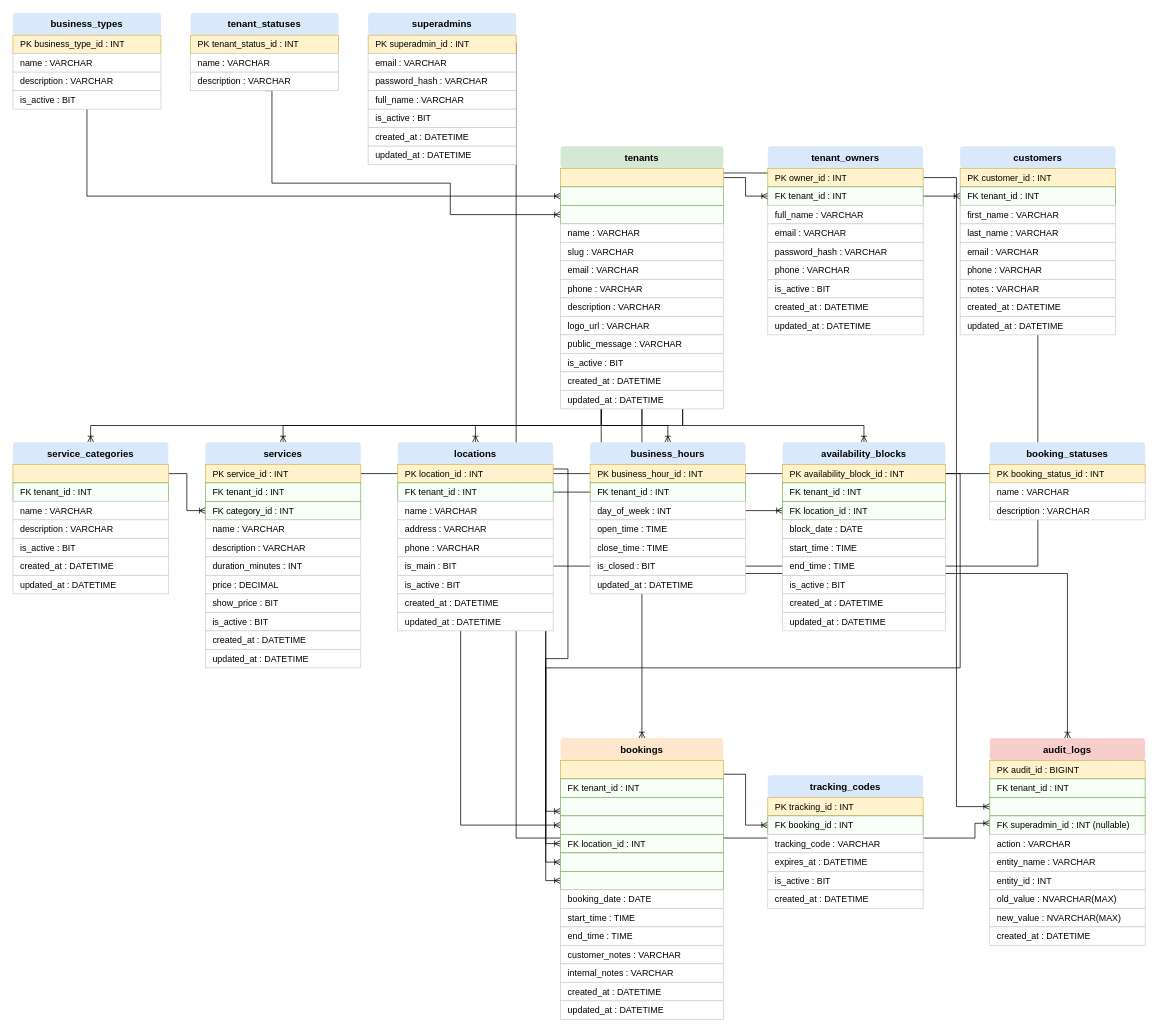
The diagram is 1158 pixels wide and 1032 high, and some of its shapes have lost their labels. The shapes that lost their labels are listed below. From the top down, each one's box as (x1, y1, x2, y2) in pixels, then its label:
(560, 168, 723, 187): PK tenant_id : INT
(560, 186, 723, 205): FK business_type_id : INT
(560, 205, 723, 224): FK tenant_status_id : INT
(12, 464, 168, 483): PK category_id : INT
(560, 760, 723, 779): PK booking_id : INT
(560, 797, 723, 816): FK customer_id : INT
(560, 815, 723, 834): FK service_id : INT
(989, 797, 1145, 816): FK owner_id : INT (nullable)
(560, 852, 723, 871): FK availability_block_id : INT
(560, 871, 723, 890): FK booking_status_id : INT
